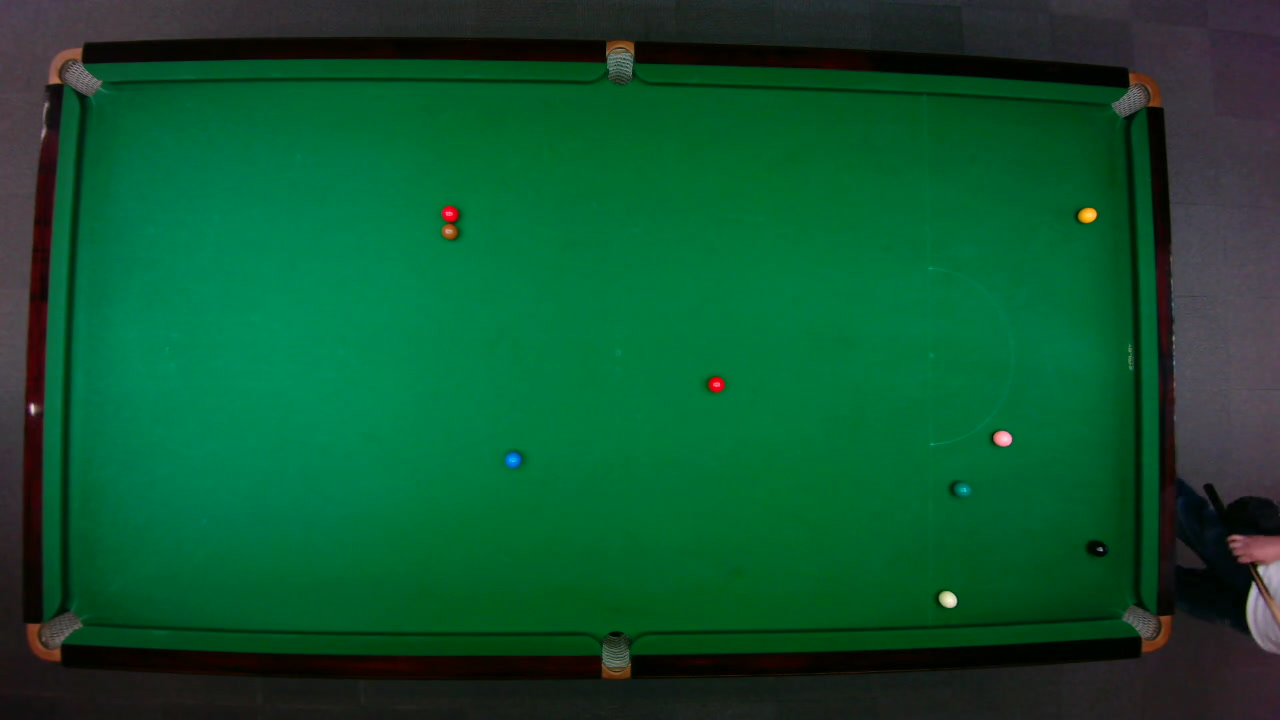bag: (24, 609, 83, 661), (45, 46, 102, 96), (1119, 603, 1172, 652), (1108, 71, 1161, 118), (601, 629, 629, 680), (605, 38, 633, 86)
black: (1087, 539, 1108, 557)
blue: (503, 450, 522, 468)
brown: (440, 223, 458, 240)
green: (951, 480, 971, 497)
pink: (991, 429, 1013, 447)
red: (706, 374, 725, 393), (439, 204, 459, 222)
white: (936, 589, 958, 608)
yellow: (1076, 205, 1098, 223)
zone: (927, 265, 1013, 445)
